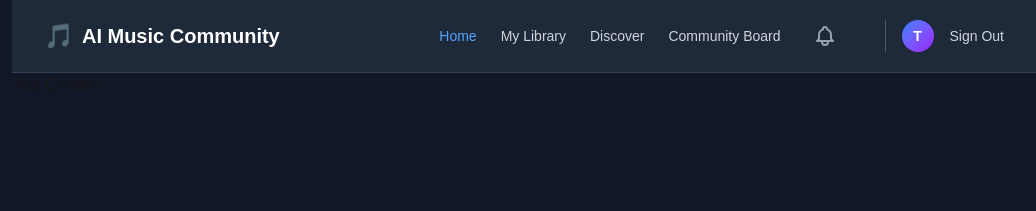
Test: MainLayout Navigation › Moderation Link Visibility › should show Moderation link for moderators
Note: Open avatar dropdown
Click the button named "User menu" at (918, 36), box x1=902 y1=20 x2=934 y2=52
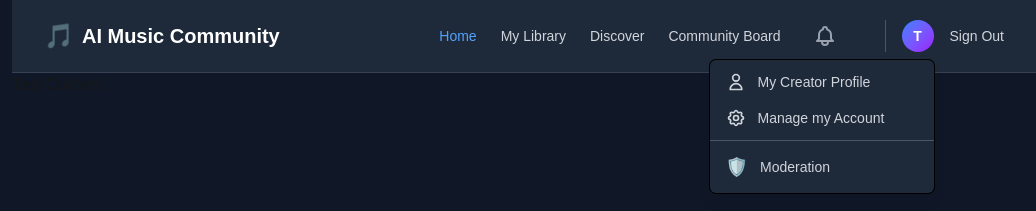
Expected: the menu item "🛡️ Moderation" is shown, x1=710 y1=145 x2=934 y2=189
